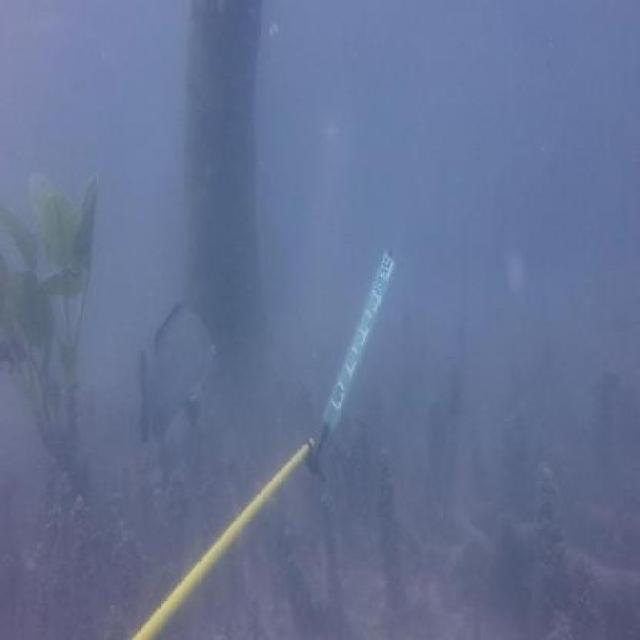acanthopagrus_palmaris: (127, 295, 224, 450)
